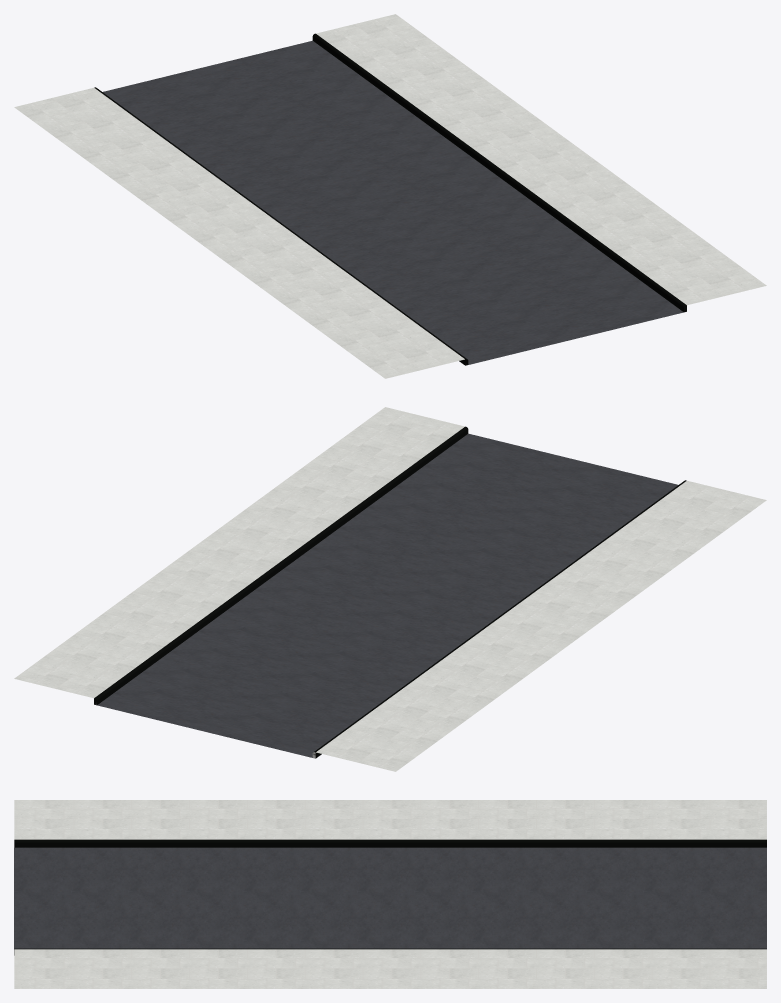
The model's file is calle 1 carril y 2 estacionamientos.fbx.
3 renders of one model, top to bottom at view 1: azimuth 30°, elevation 25°; view 2: azimuth 150°, elevation 25°; view 3: azimuth 270°, elevation 25°, orthographic.
Visible parts, largest first — view 1: Callle 1 carril con un lugar para estacionar.008; view 2: Callle 1 carril con un lugar para estacionar.008; view 3: Callle 1 carril con un lugar para estacionar.008.
Boxes of the visible parts, <box> form: Callle 1 carril con un lugar para estacionar.008: <box>14,14,766,378</box>; Callle 1 carril con un lugar para estacionar.008: <box>14,407,766,771</box>; Callle 1 carril con un lugar para estacionar.008: <box>14,800,766,988</box>.
Size of the model in its own units: 1187 by 18.89 by 2000.
3 materials, 3 textured.
